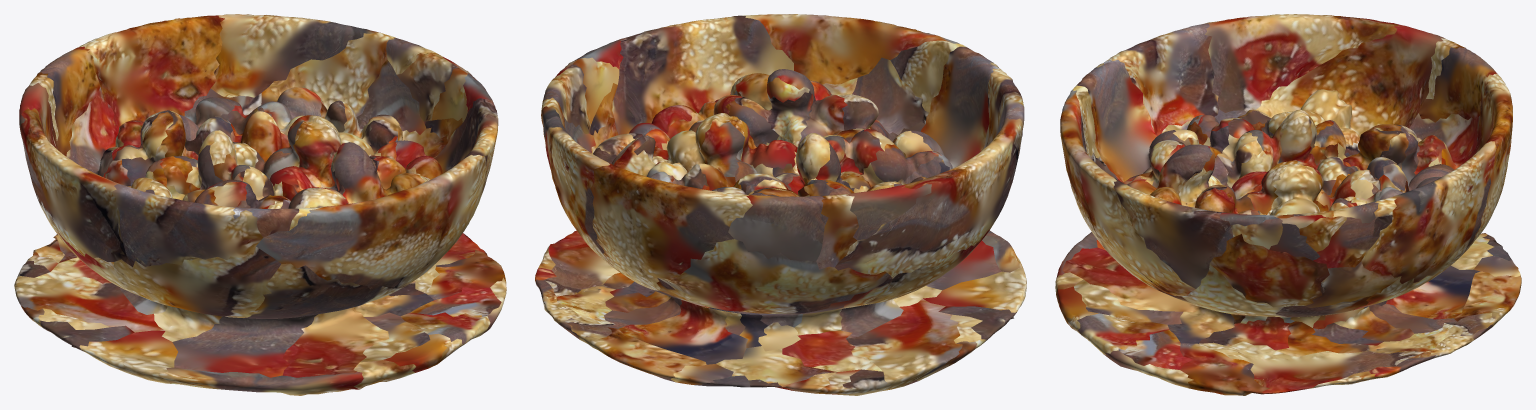
The model's file is pistachios.obj.
3 views of the same model, side by side, from view 1: azimuth 30°, elevation 25°; view 2: azimuth 150°, elevation 25°; view 3: azimuth 270°, elevation 25° (orthographic). The views are drawn at different scales.
Parts seen in each view (by area): view 1: Object; view 2: Object; view 3: Object.
Part boxes in pixels (x1,y1,x2,y2): Object: (14, 14, 506, 395); Object: (535, 14, 1026, 395); Object: (1055, 14, 1521, 395).
Bounding box in the file's own units: 0.1291 × 0.0587 × 0.1266.
